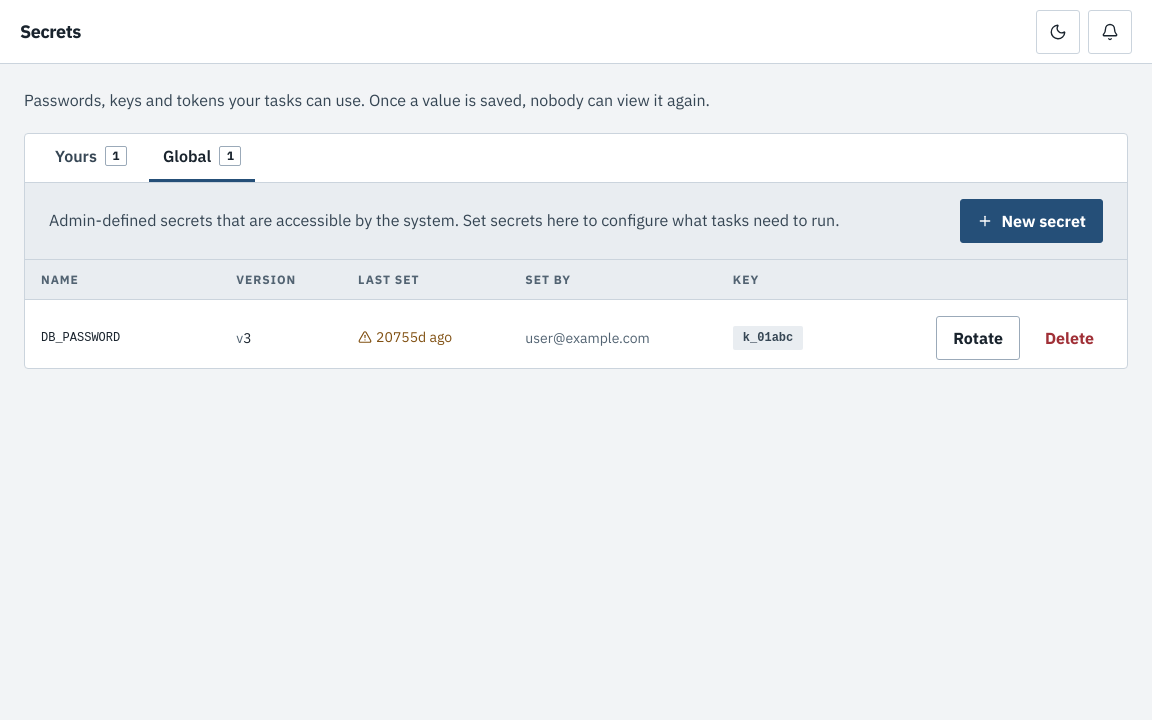
Test: SecretsPage › lets an admin write global secrets and still only their own personal ones
Expected: the number of buttons "New secret" is 1, [960,199,1103,243]
Click the button with aria-label "Rotate DB_PASSWORD": x=978, y=338 [936,316,1020,360]
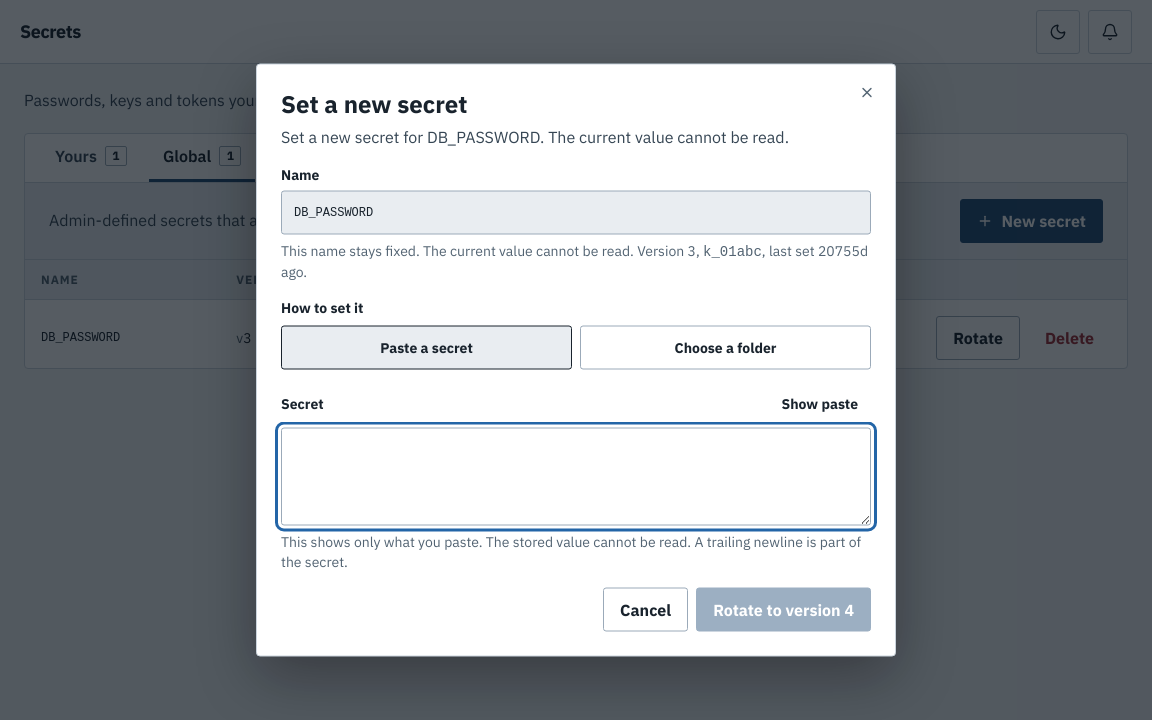
In the text box labelled "Secret": x=576, y=476 [281,428,871,526], type "next"
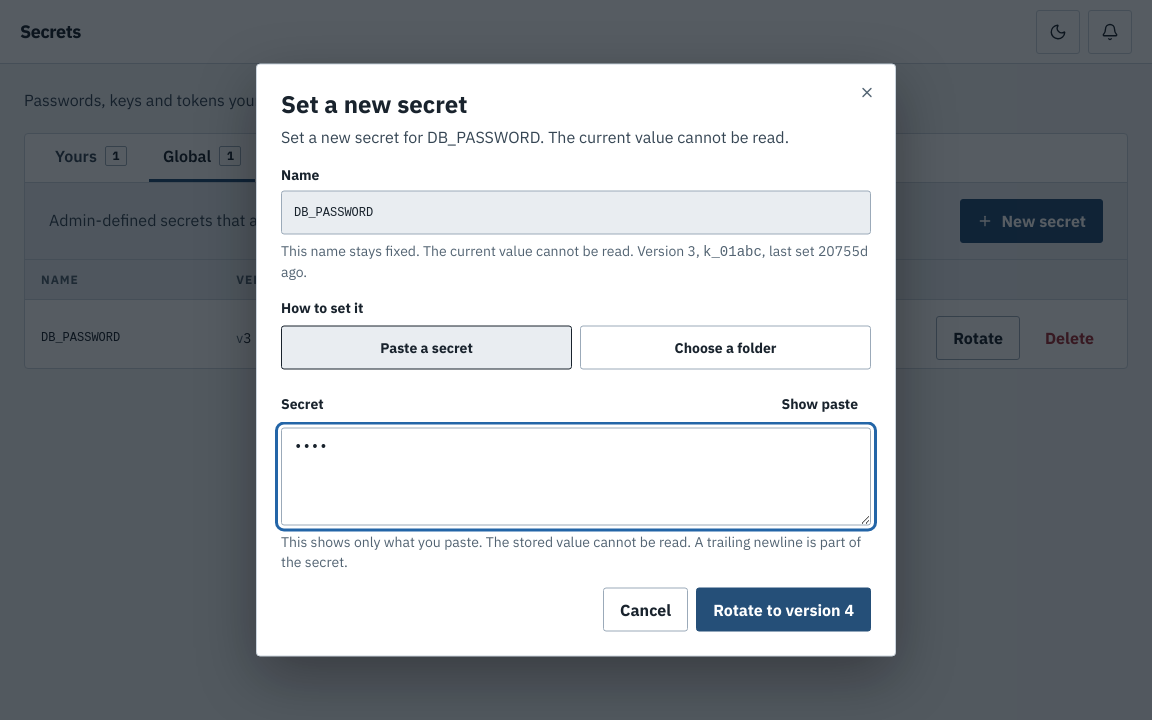
Click the button "Rotate to version 4": x=784, y=610 [696,588,871,632]
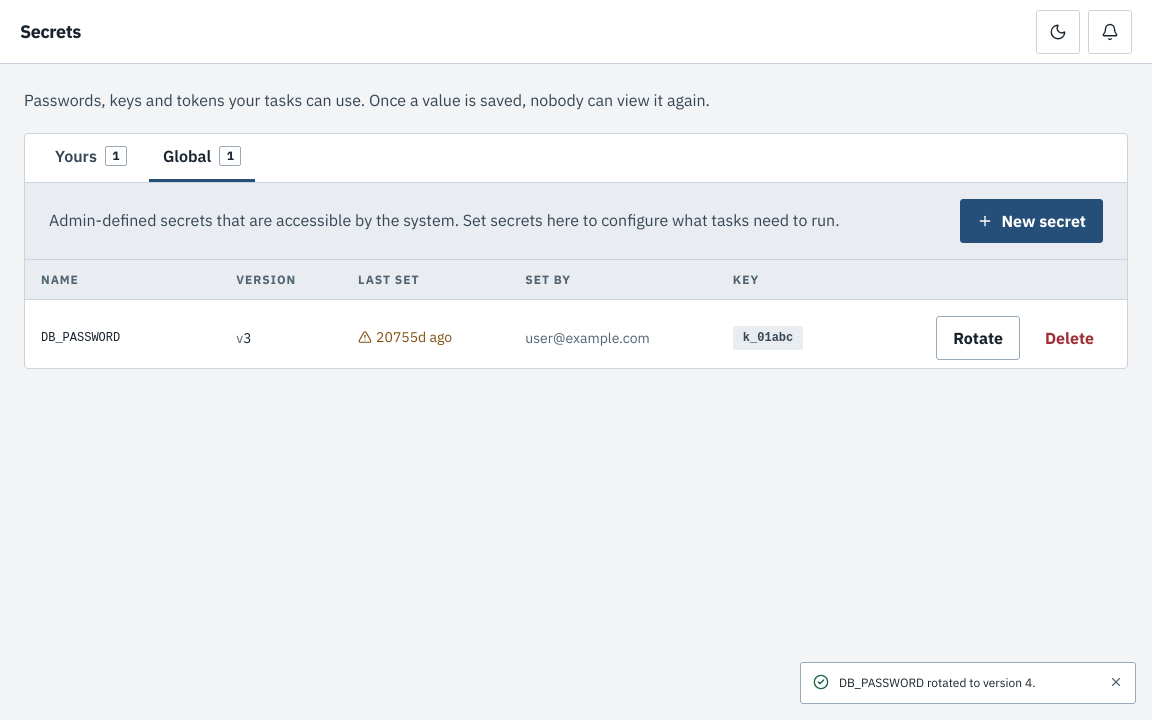
Click the tab "Yours 1": x=91, y=158 [41,134,141,182]
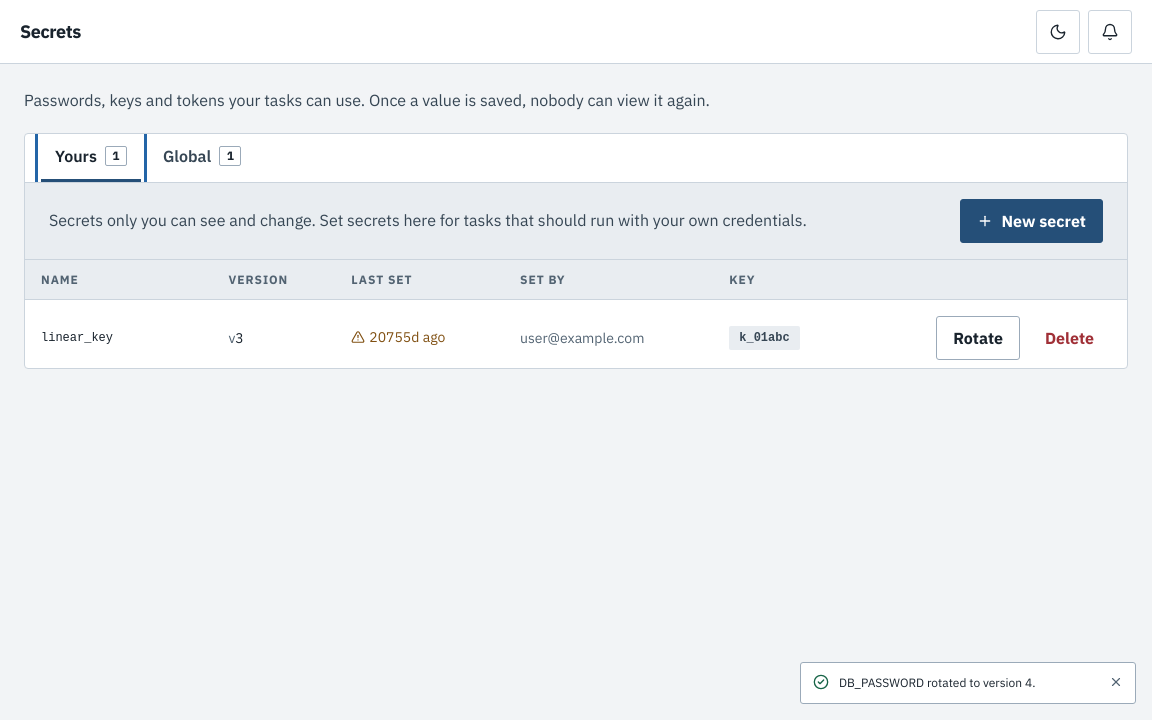
Expected: the button with aria-label "Rotate linear_key" is shown, [936,316,1020,360]
Expected: the number of buttons "New secret" is 1, [960,199,1103,243]
Expected: the button "Rotate DB_PASSWORD" is gone
